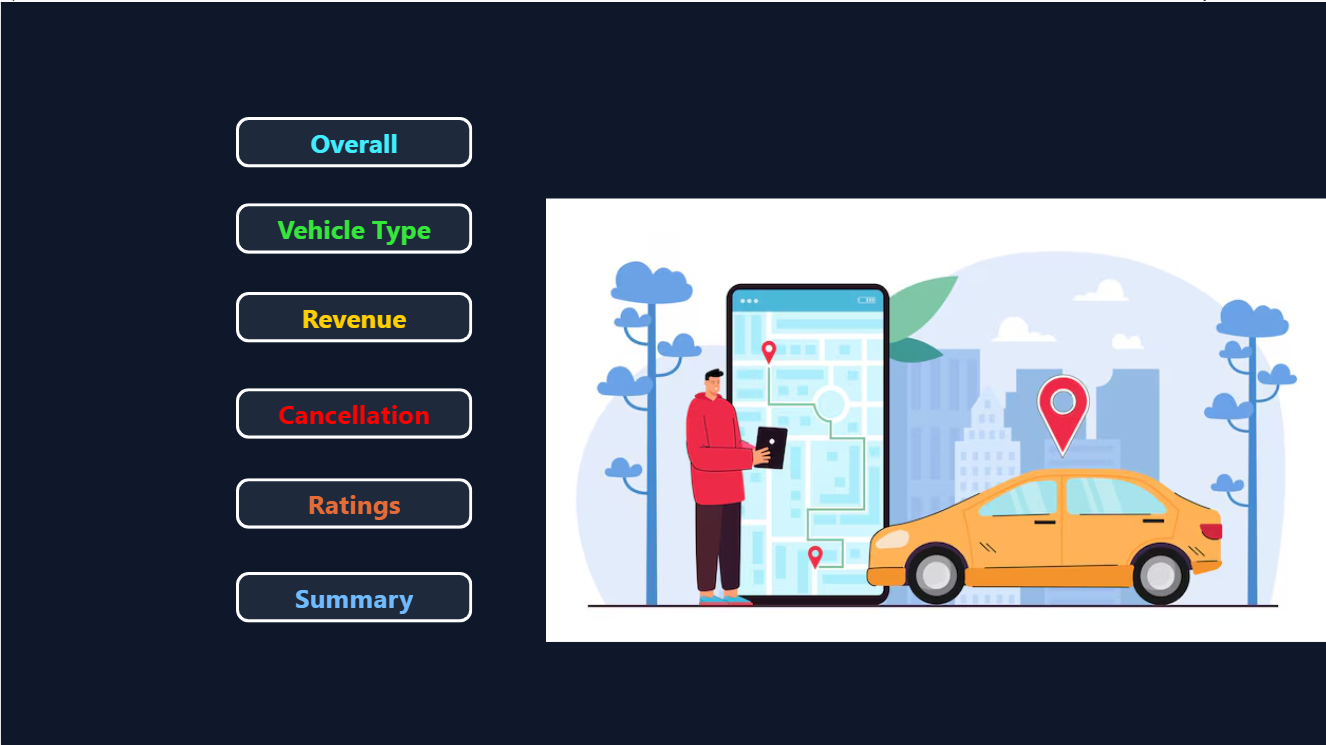

What the dashboard file says about the page in this screenshot:
{"tool":"powerbi","page":{"name":"Homepage","canvas":[1280,720],"ordinal":0},"visuals":[{"type":"actionButton","box":[226.6,111,228.1,48.7],"z":0},{"type":"actionButton","box":[226.6,194.6,228.1,48.7],"z":1000},{"type":"actionButton","box":[226.6,279.8,228.1,48.7],"z":2000},{"type":"actionButton","box":[226.6,372.5,228.1,48.7],"z":3000},{"type":"actionButton","box":[226.6,459.2,228.1,48.7],"z":4000},{"type":"actionButton","box":[226.6,550.4,228.1,48.7],"z":5000},{"type":"image","box":[526.1,85.2,754.2,635.6],"z":6000}]}

Visuals, with their boxes in screenshot pixels (x1, y1, x2, y2), scaled from the page's 1280x720 canvas onto the 1326x745 screenshot:
actionButton: {"x1": 235, "y1": 115, "x2": 471, "y2": 165}
actionButton: {"x1": 235, "y1": 201, "x2": 471, "y2": 252}
actionButton: {"x1": 235, "y1": 290, "x2": 471, "y2": 340}
actionButton: {"x1": 235, "y1": 385, "x2": 471, "y2": 436}
actionButton: {"x1": 235, "y1": 475, "x2": 471, "y2": 526}
actionButton: {"x1": 235, "y1": 570, "x2": 471, "y2": 620}
image: {"x1": 545, "y1": 88, "x2": 1325, "y2": 744}
